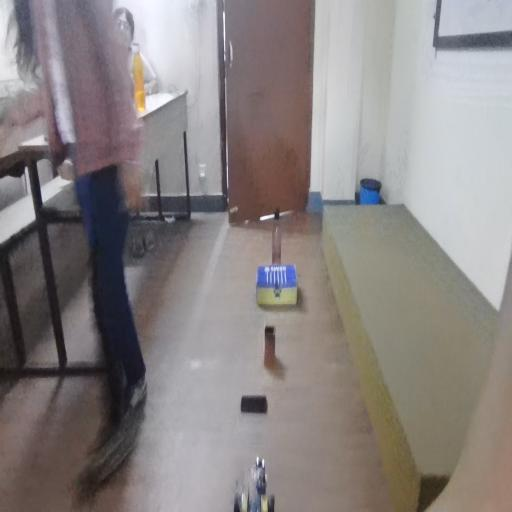Bottle: (267, 204, 287, 260)
